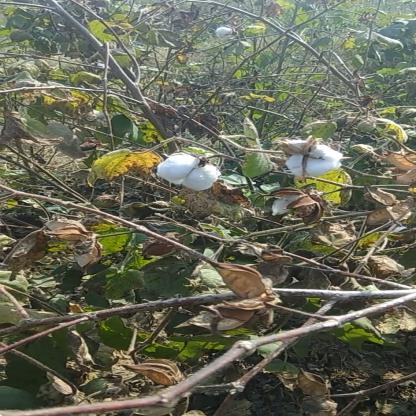cotton_ready: (133, 144, 241, 202), (265, 130, 345, 191)
